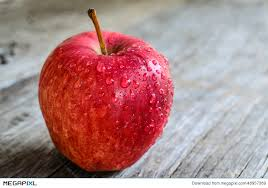apple: (44, 31, 167, 168)
